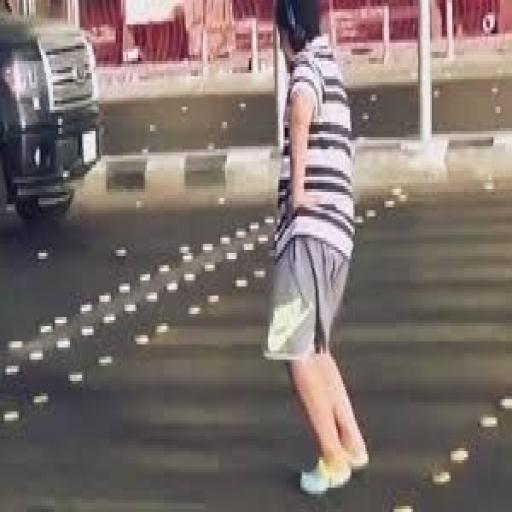dancing: (261, 0, 372, 500)
